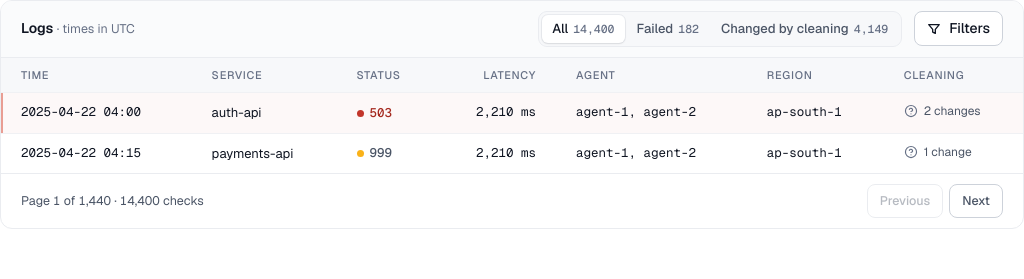
Scenario: Logs panel › what cleaning changed, in words
Check: the text "2025-04-22 04:00" is shown, box [1,92,192,133]
Click the button named "What cleaning changed" in the row of "2025-04-22 04:00": (911, 111) [897,97,925,125]
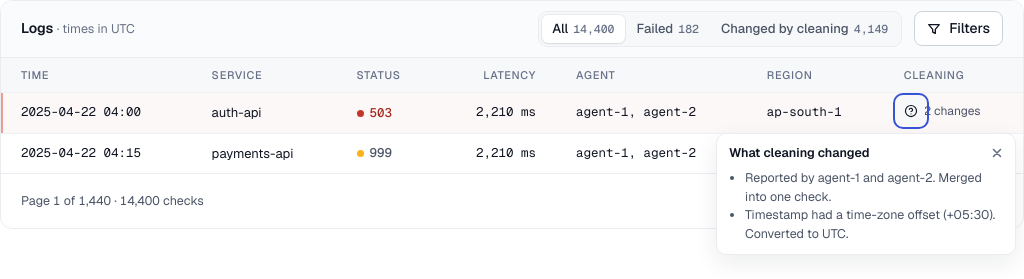
Check: the tooltip shows "Reported by agent-1 and agent-2. Merged into one check.", box [745,169,982,205]
Check: the tooltip shows "Timestamp had a time-zone offset (+05:30). Converted to UTC.", box [745,206,995,242]
